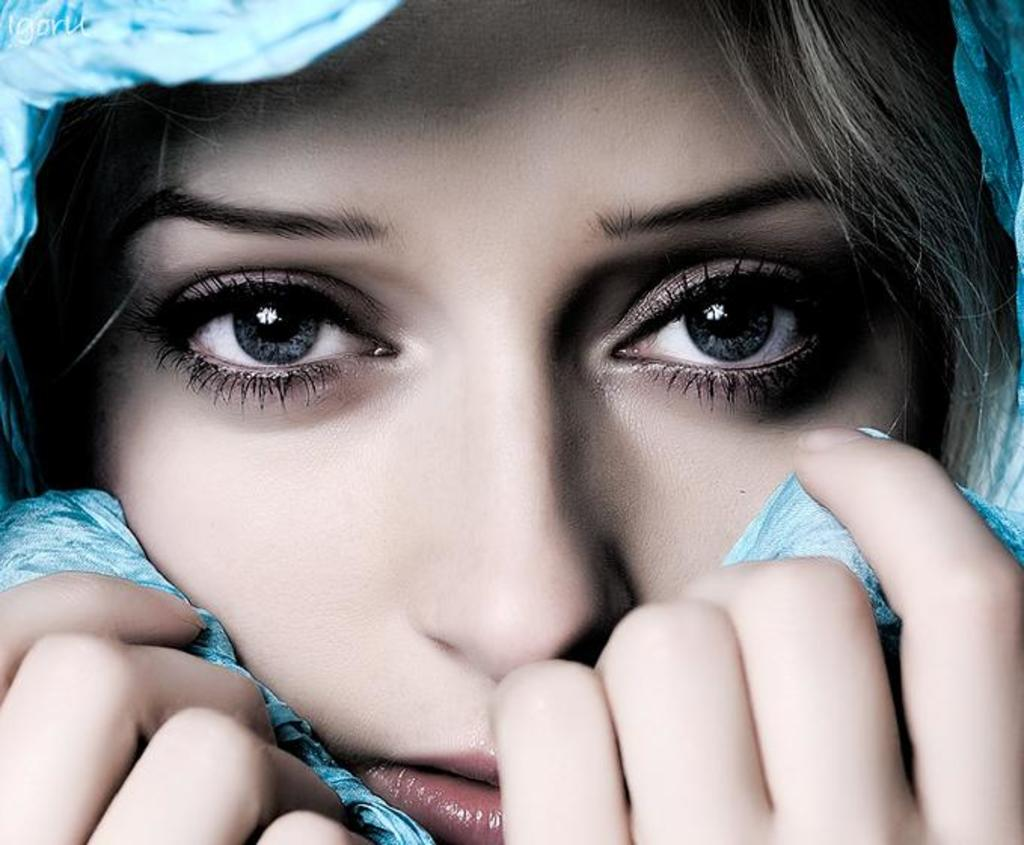Human_hand: (488, 427, 1024, 845), (0, 566, 377, 843)
